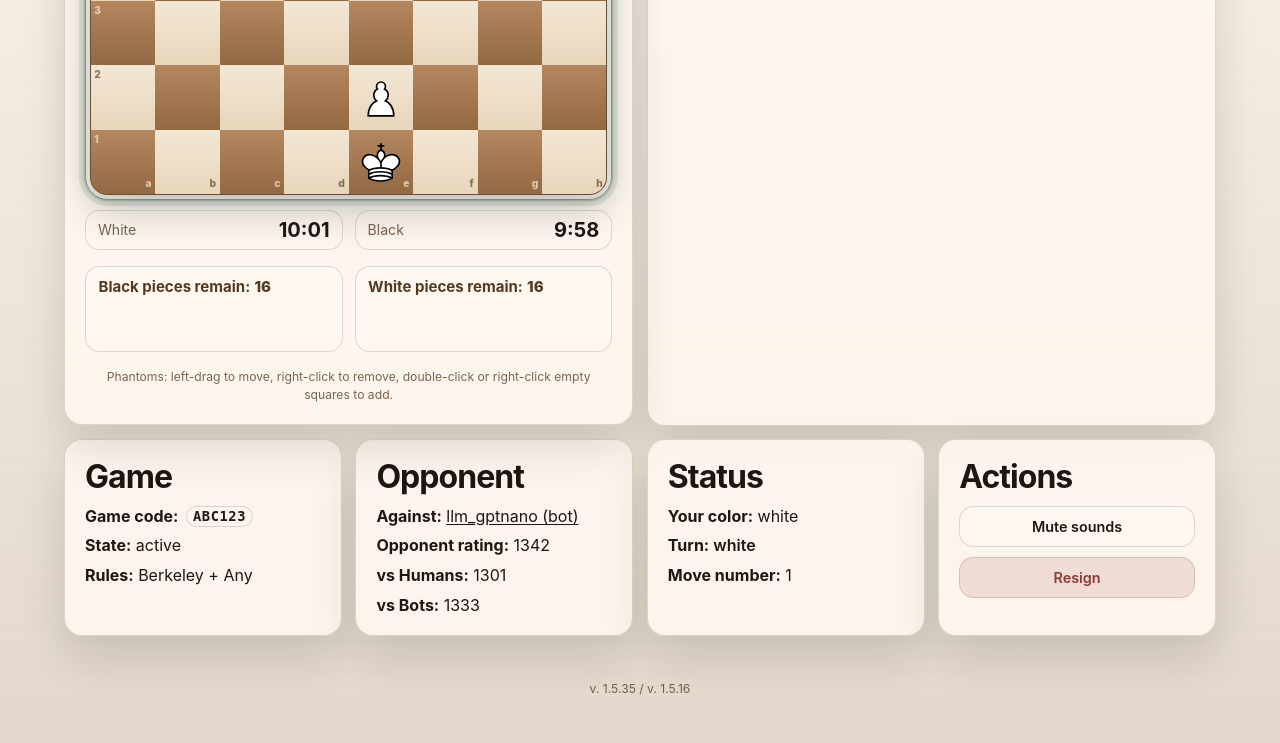
GamePage › copies_the_game_code_from_the_status_card
The width and height of the screenshot is (1280, 743).
(page scrolled)
Click the button with aria-label "Copy game code ABC123": (220,517) [186,506,253,527]
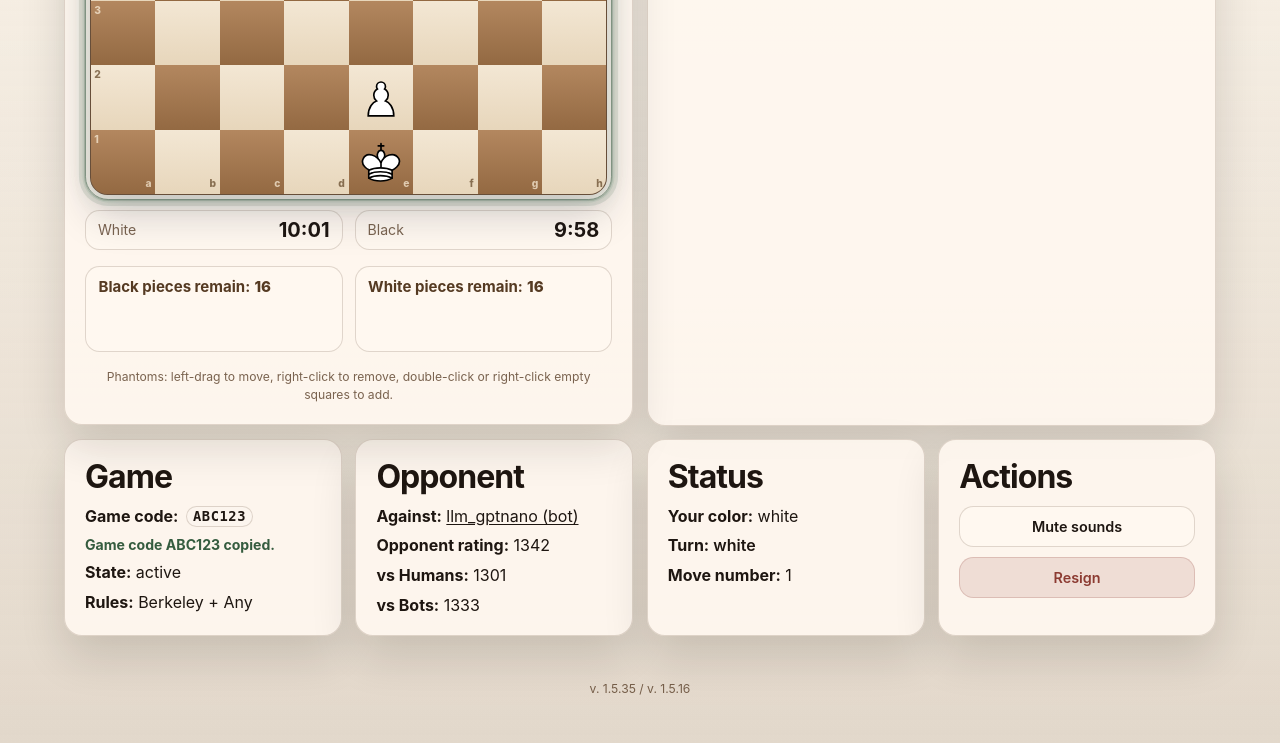
Expected: the message reads "Game code ABC123 copied.", [85,536,275,553]
